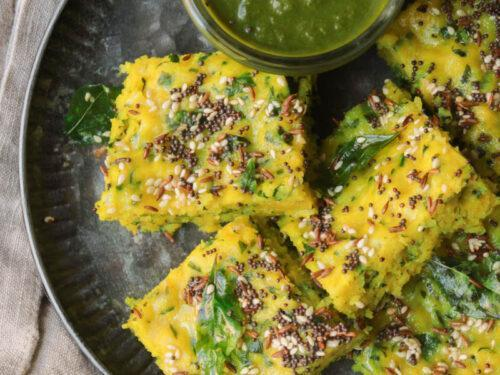dhokla: (107, 0, 500, 375)
